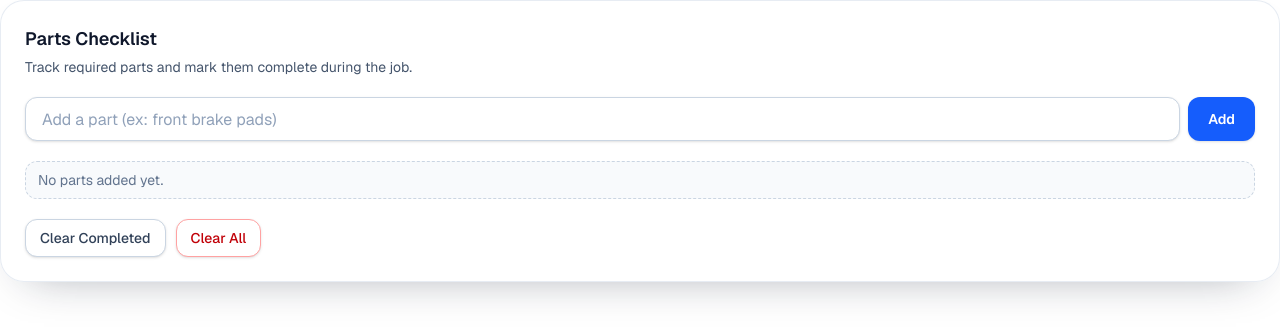
Test: PartsChecklist › adds a part
Type "Oil Filter" into the field with placeholder "Add a part (ex: front brake pads)" at (603, 119), box x1=25 y1=97 x2=1180 y2=141
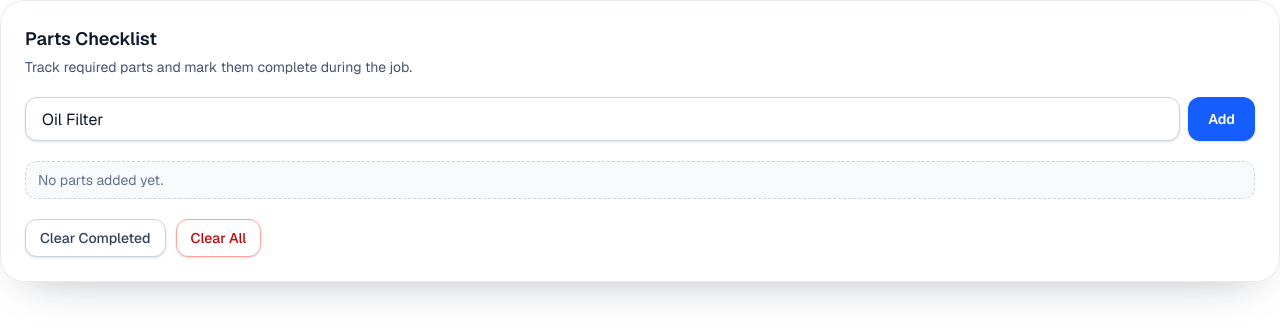
Click the button "Add" at (1222, 119), box x1=1188 y1=97 x2=1255 y2=141
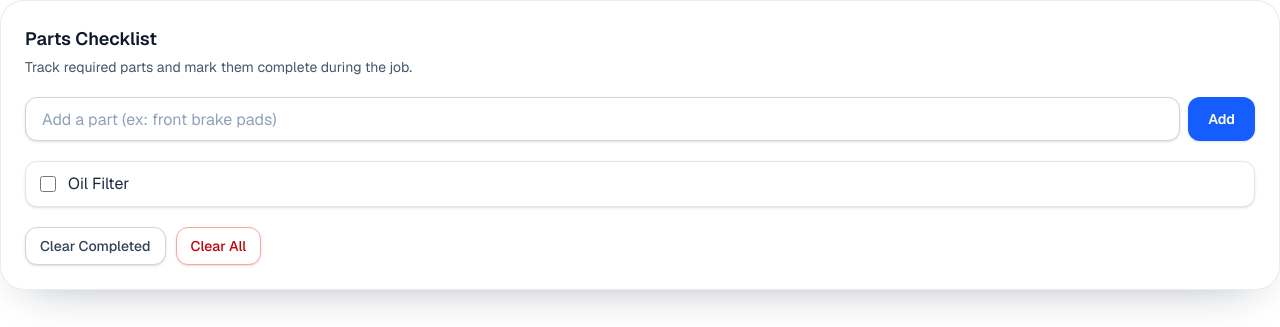
Check: the text "Oil Filter" is shown, box x1=68 y1=172 x2=129 y2=196
